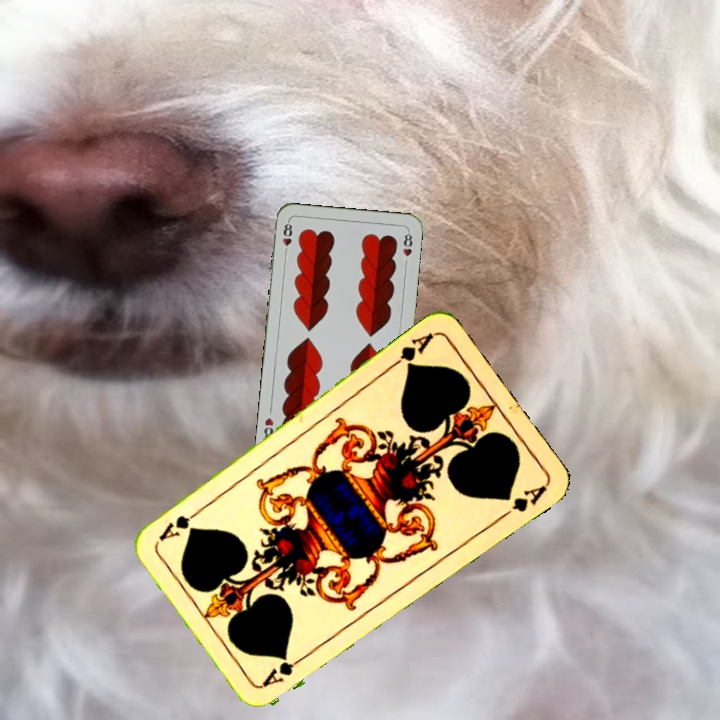GA: (386, 327, 437, 373), (258, 650, 311, 689)
H8: (279, 218, 295, 258)
